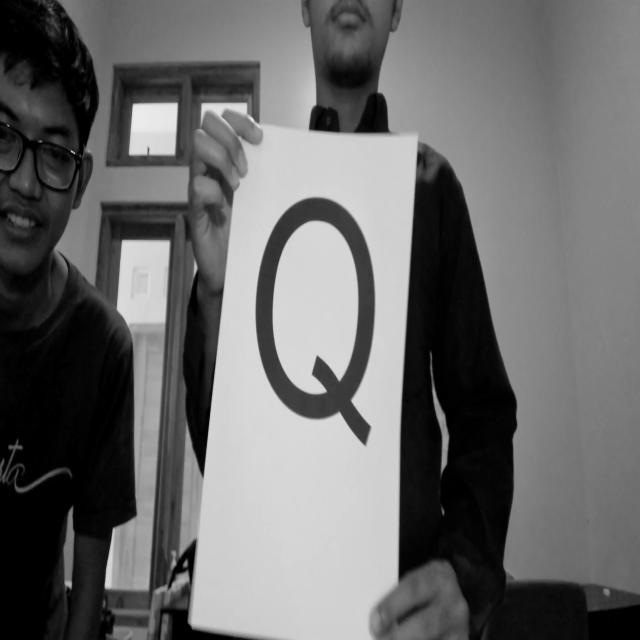q: (237, 168, 393, 490)
